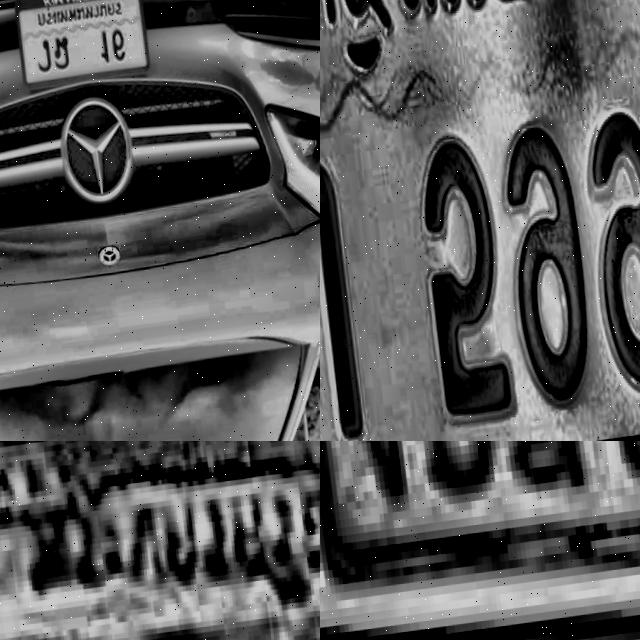license-plate: (320, 0, 640, 441), (0, 441, 320, 640), (320, 441, 640, 636), (7, 0, 150, 99)
